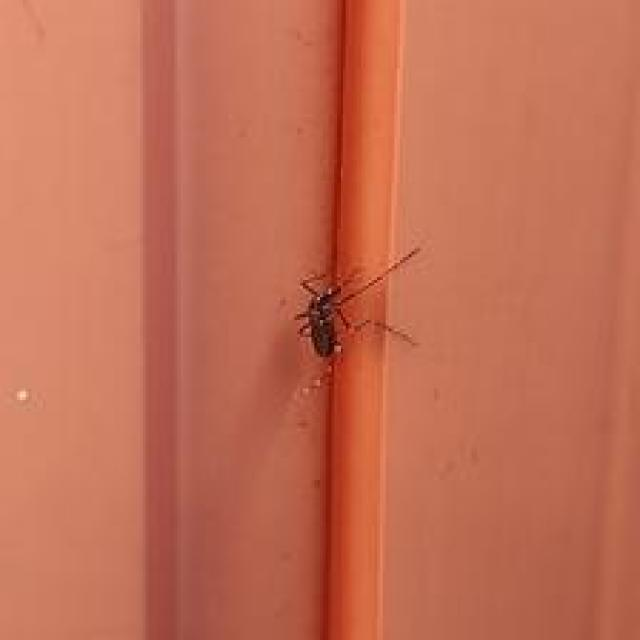Aedes albopictus: (284, 244, 422, 427)
